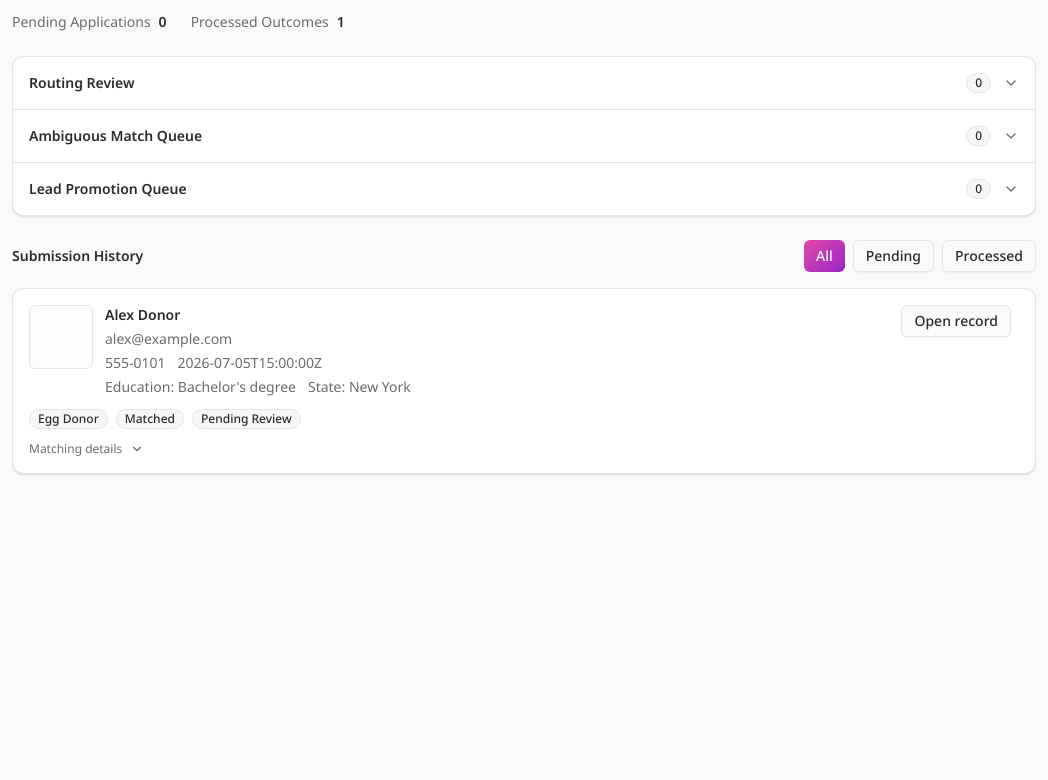
Test case: AutomationFormSubmissionsPanel › labels donor review records, previews only a clean image, and links the converted donor
Check: the text "Egg Donor" is shown, box 29,409 -> 108,429
Check: the text "Bachelor's degree" is shown, box 178,377 -> 296,396
Click the button "Matching details". click: point(87, 449)
box: 29,441 -> 144,457
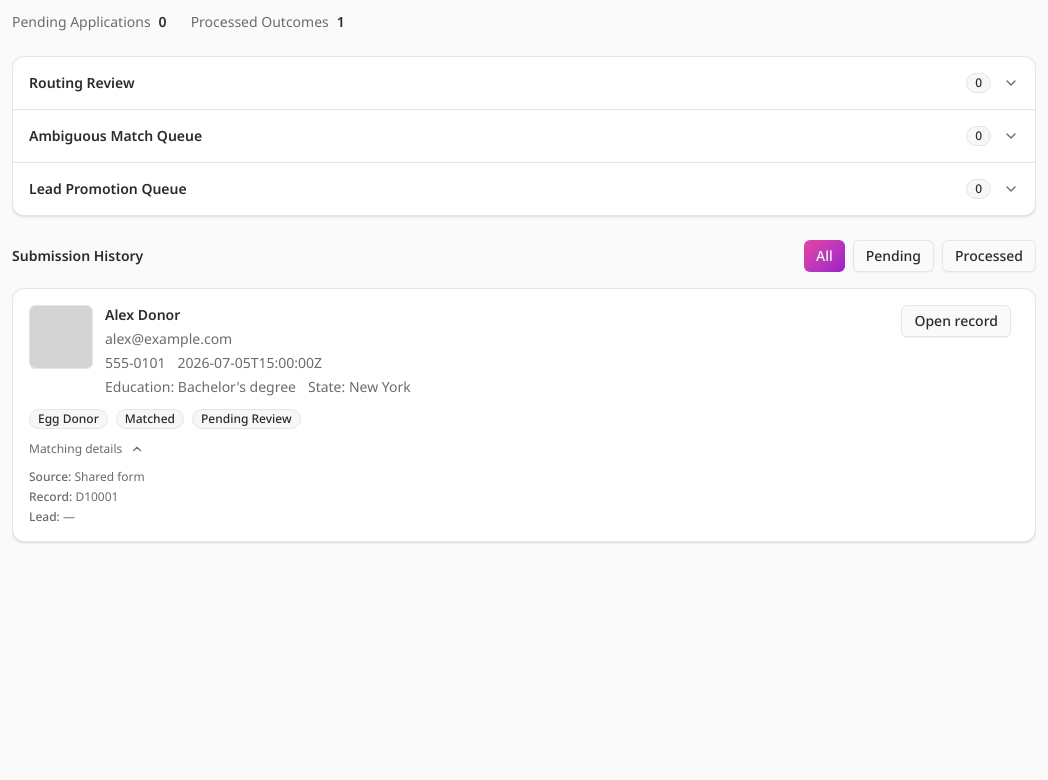
Check: the text "D10001" is shown, box 75,488 -> 118,505
